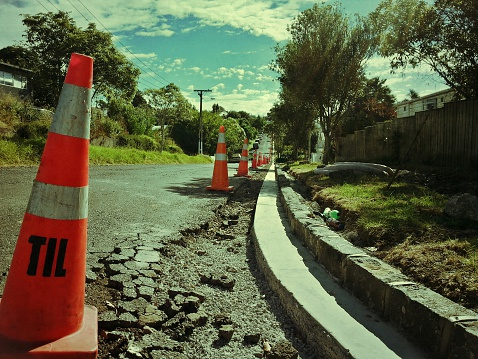trafficcone: (1, 52, 99, 358), (206, 125, 234, 191), (235, 138, 251, 178), (250, 154, 258, 171), (258, 155, 263, 167)
